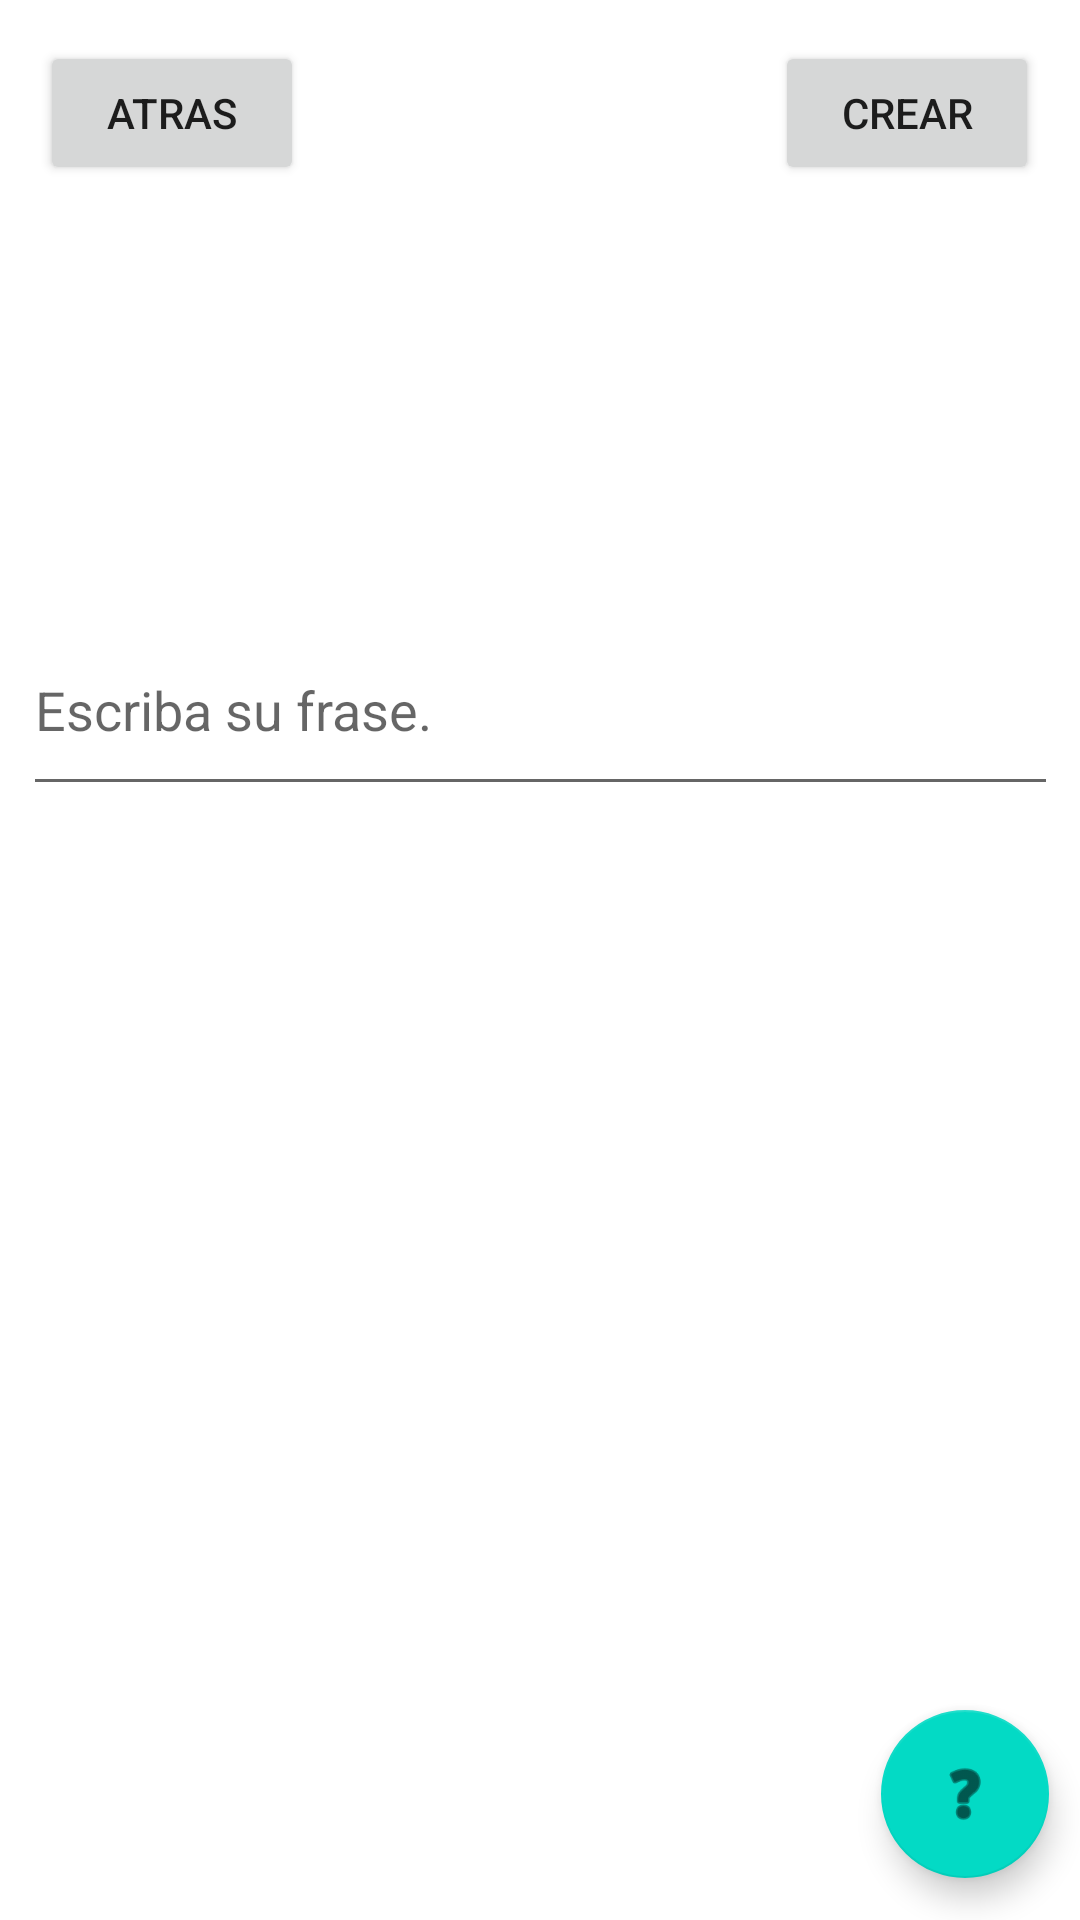

Icon click points for this 1080px x 1920px phone screenshot, format (x=x, y=y):
help: (x=965, y=1794)
